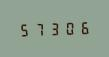five: (18, 21, 31, 37)
seven: (32, 20, 45, 37)
six: (74, 19, 87, 35)
three: (46, 20, 59, 36)
zero: (60, 19, 73, 36)
